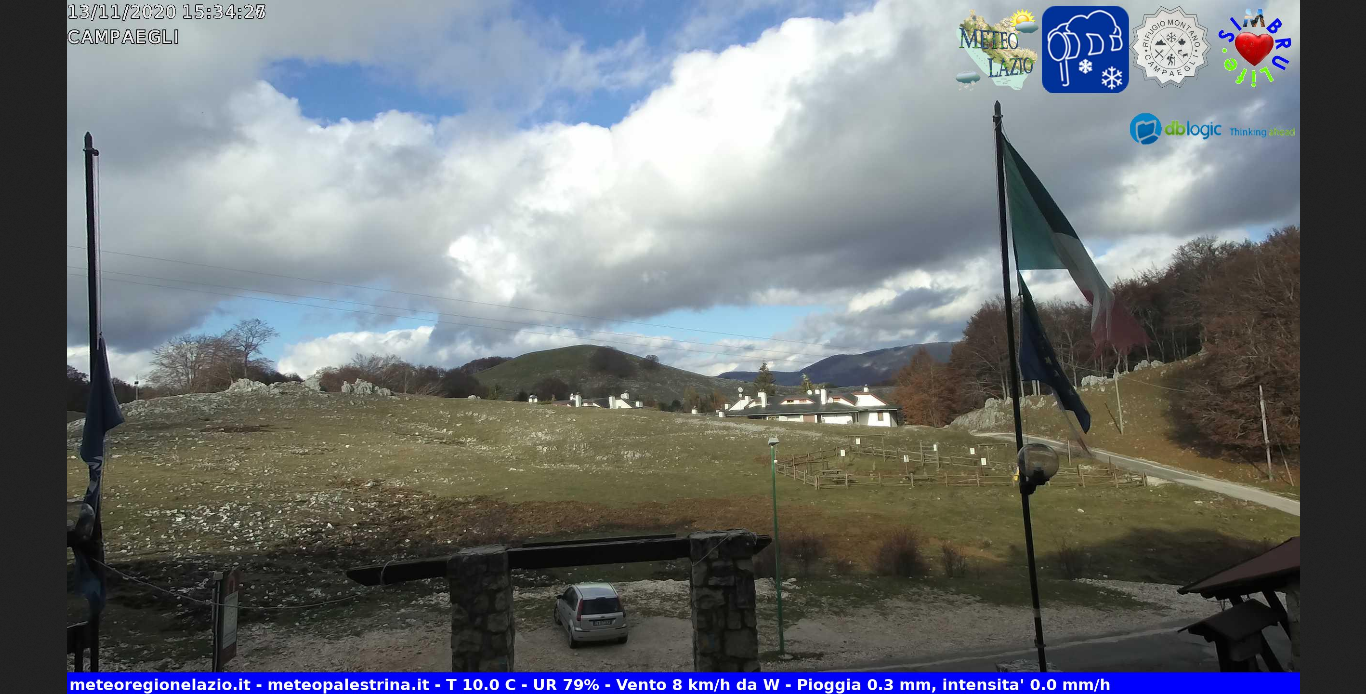maybe: (985, 92, 1127, 351), (1005, 275, 1104, 440)
